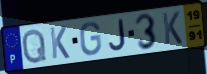3: (135, 12, 158, 51)
G: (79, 21, 103, 57)
J: (108, 18, 128, 52)
K: (161, 10, 184, 46), (49, 25, 71, 61)
Q: (21, 27, 48, 65)
